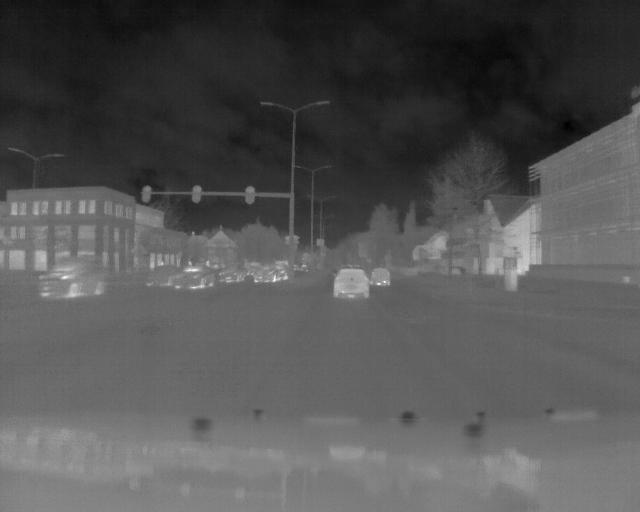car: (36, 253, 108, 300), (172, 264, 218, 291), (332, 268, 371, 299), (252, 261, 288, 283), (369, 261, 392, 291), (221, 266, 246, 282)
